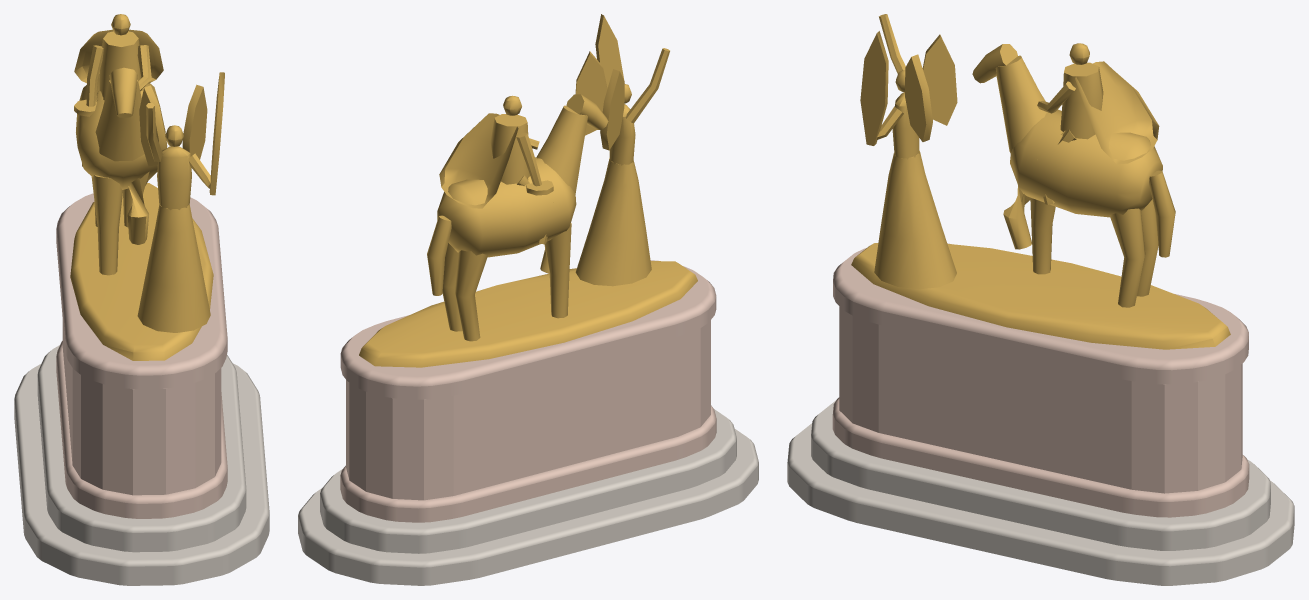
The picture shows the model from 3 angles, left to right: view 1: azimuth 30°, elevation 25°; view 2: azimuth 150°, elevation 25°; view 3: azimuth 270°, elevation 25°; orthographic projection. The views are drawn at different scales.
Parts seen in each view (by area): view 1: william-tecumseh-sherman-monument; view 2: william-tecumseh-sherman-monument; view 3: william-tecumseh-sherman-monument.
Part boxes in pixels (left/top/right/bottom): william-tecumseh-sherman-monument: left=14, top=14, right=269, bottom=585; william-tecumseh-sherman-monument: left=298, top=14, right=758, bottom=585; william-tecumseh-sherman-monument: left=787, top=14, right=1294, bottom=585.
Bounding box in the file's own units: 5.69 × 7.64 × 7.43.
